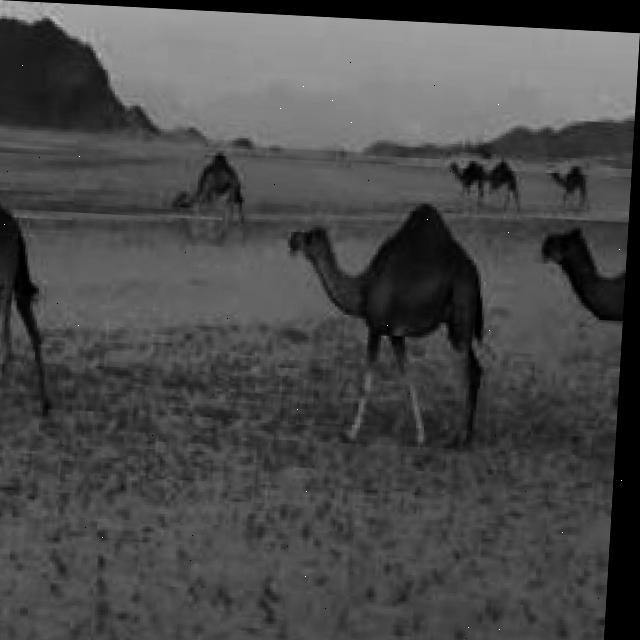Camel: (274, 194, 491, 450), (525, 220, 626, 486), (0, 168, 65, 420), (172, 148, 248, 224)
